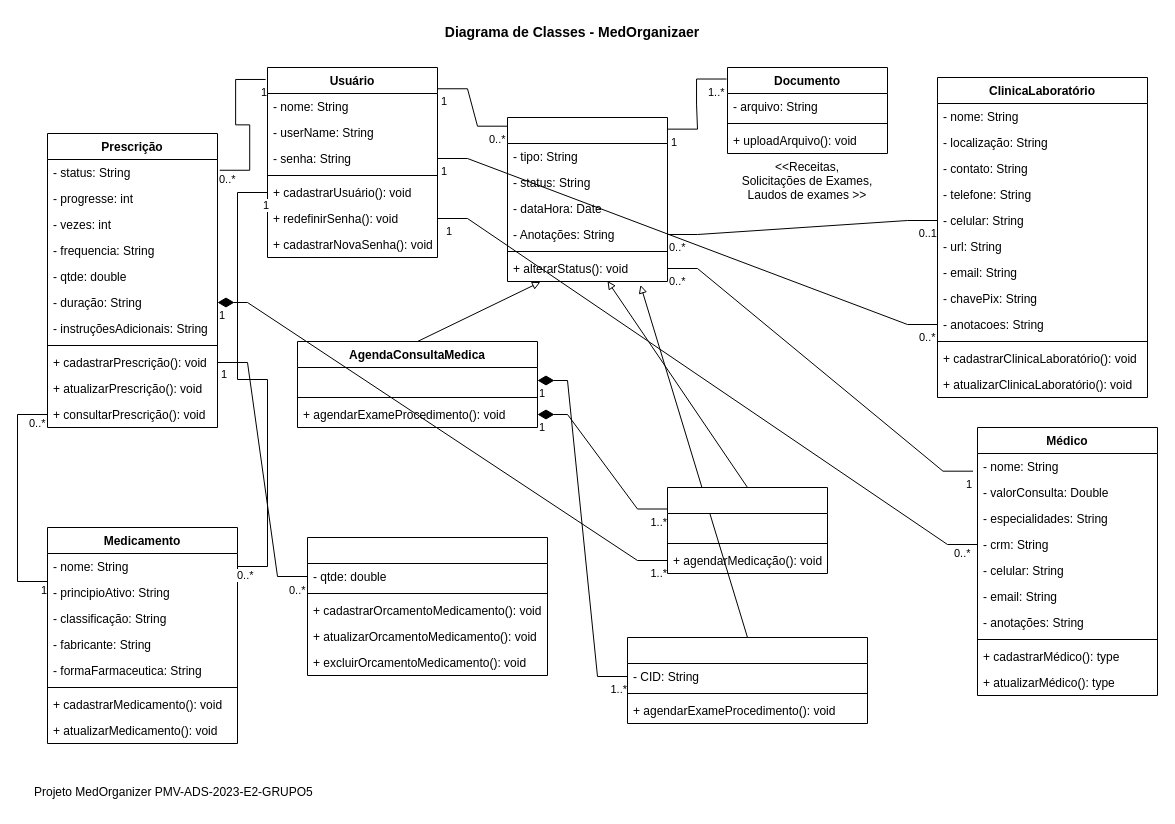
Image size: 1175x824. Some labels were removed from this diagram. The shapes that lost their labels are listed below. From the top down, each one's box as (x1, y1, x2, y2) in pixels, then its label:
(506, 116, 668, 282): Agenda
(666, 486, 828, 574): AgendaMedicação
(306, 536, 548, 676): Orçamento
(626, 636, 868, 724): AgendaExamesProcedimentos
